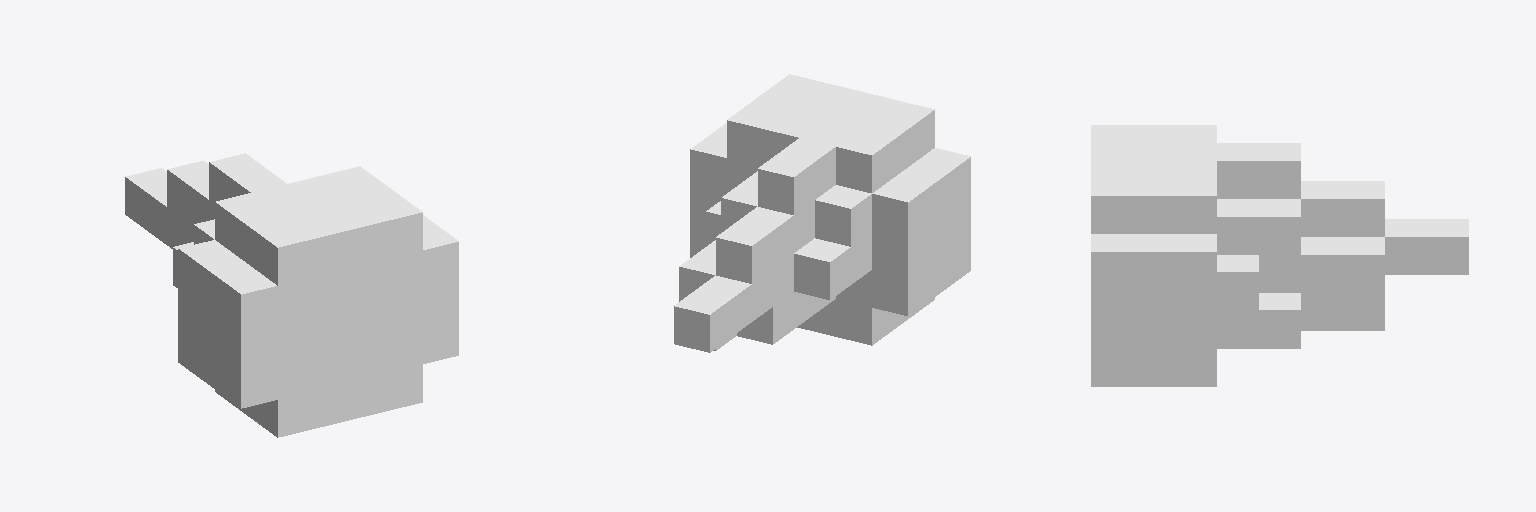
The model's file is Robot-0-flame1.obj.
The picture shows the model from 3 angles: view 1: azimuth 30°, elevation 25°; view 2: azimuth 150°, elevation 25°; view 3: azimuth 270°, elevation 25°; orthographic projection.
Parts seen in each view (by area): view 1: flame1; view 2: flame1; view 3: flame1.
Part boxes in pixels (x1,y1,x2,y2): flame1: (125, 153, 458, 437); flame1: (674, 74, 970, 352); flame1: (1091, 125, 1468, 386).
Bounding box in the file's own units: 0.6 × 0.5 × 0.9.